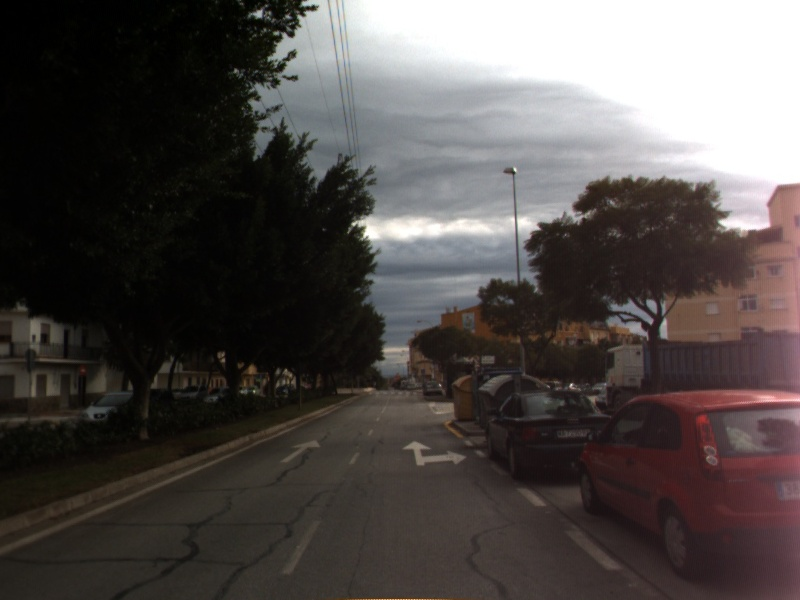STRAIGHT: (278, 437, 323, 464)
STRAIGHT_RIGHT: (400, 438, 469, 467)
